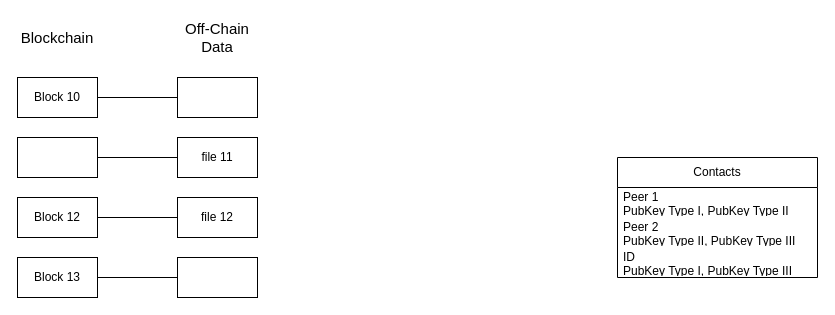
Image size: 835x315. Some labels were removed from this diagram. Here are the shapes that lost their labels. From the top down, the centre of each, then its label:
the point at 217,97: file 10
the point at 57,157: Block 11
the point at 217,277: file 13
